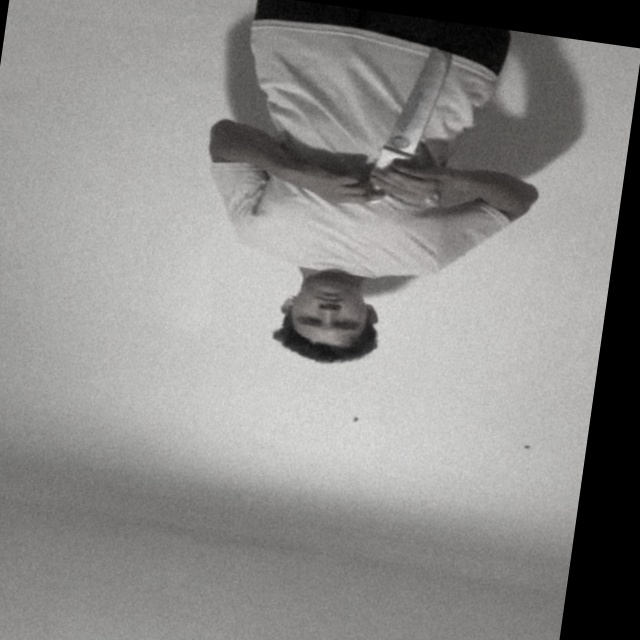Sharp-Object: (386, 40, 451, 159)
